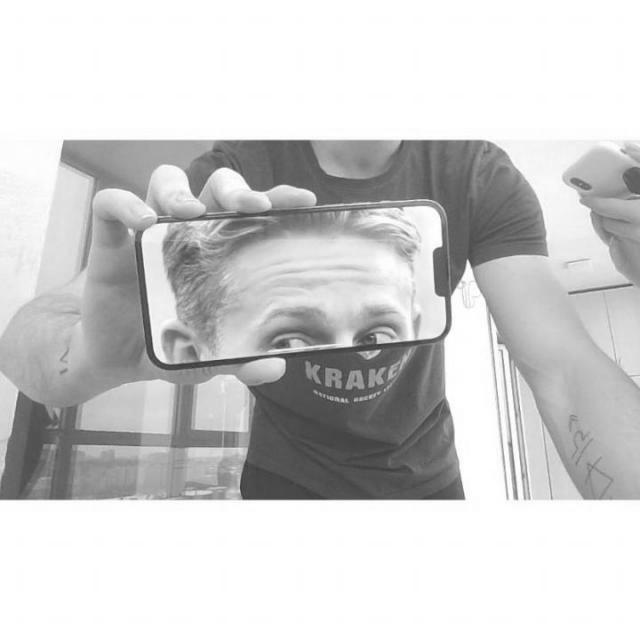fake: (132, 198, 456, 374)
